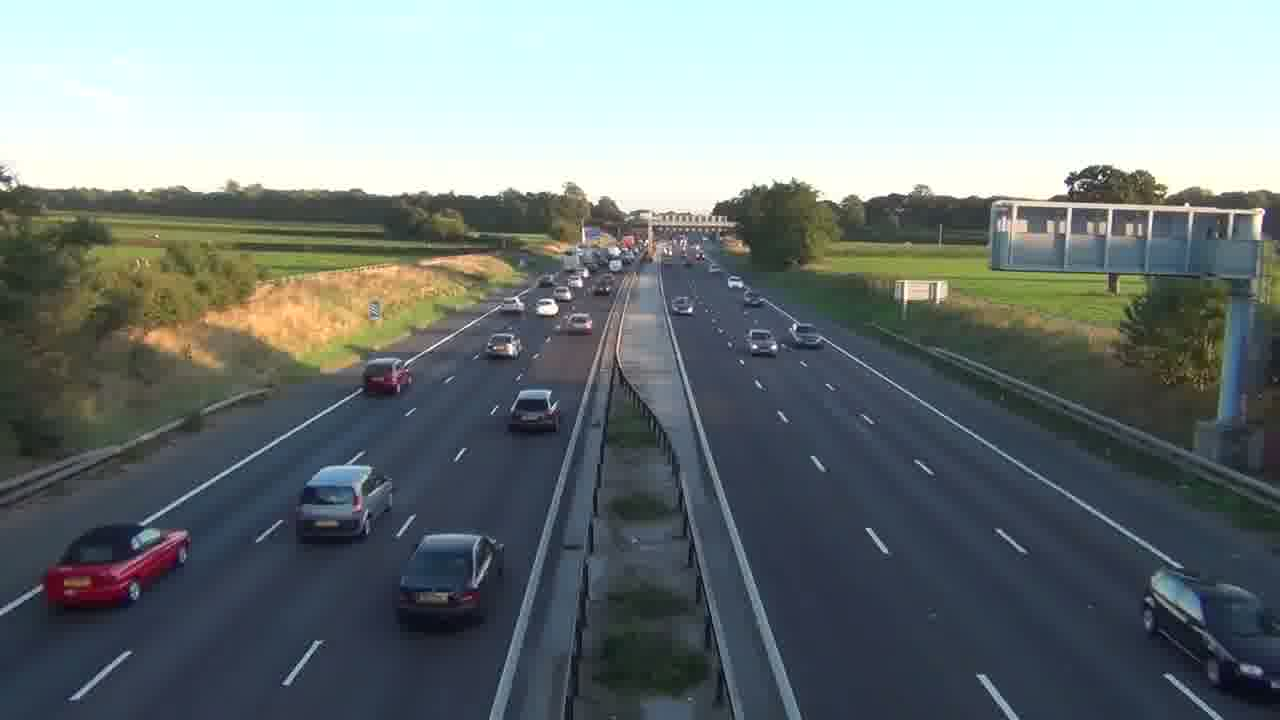car: (395, 531, 503, 629), (294, 463, 395, 543), (508, 387, 561, 434), (362, 356, 413, 396), (484, 332, 522, 359), (791, 322, 824, 348), (564, 312, 592, 335), (670, 294, 694, 315)
truck: (1141, 566, 1280, 696), (45, 523, 192, 612)
